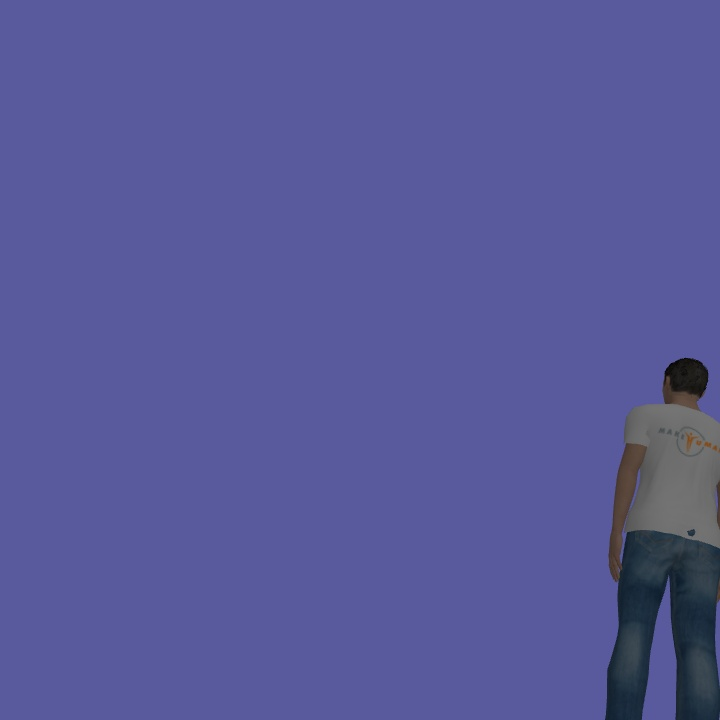victim: (602, 352, 720, 715)
